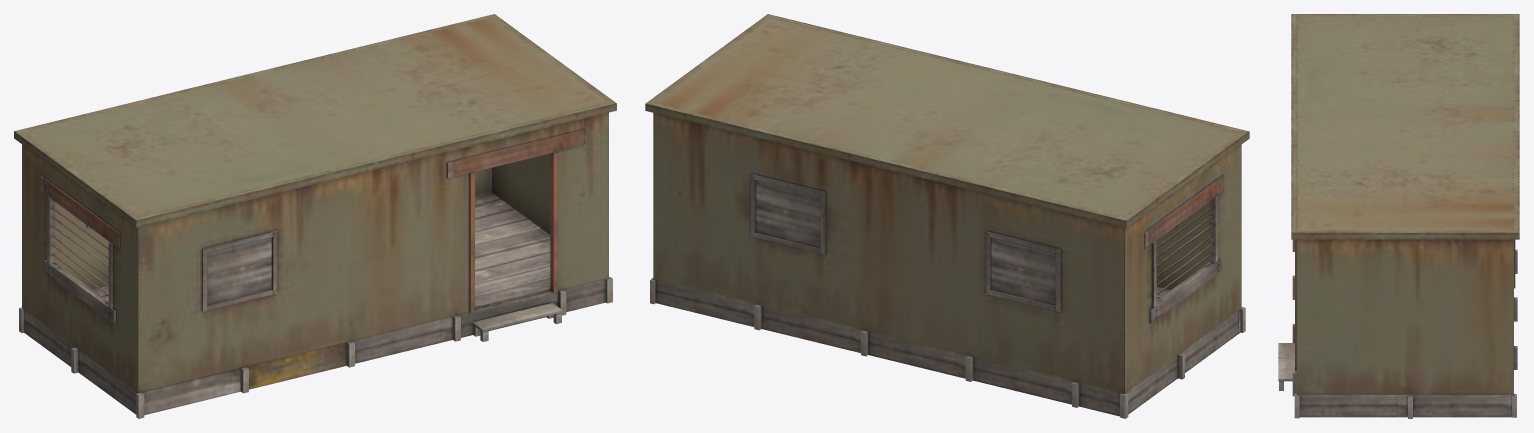
Rendered from container_building.glb.
3 views of the same model, side by side, from view 1: azimuth 30°, elevation 25°; view 2: azimuth 150°, elevation 25°; view 3: azimuth 270°, elevation 25° (orthographic). The views are drawn at different scales.
Parts seen in each view (by area): view 1: Building; view 2: Building; view 3: Building.
Part boxes in pixels (left/top/right/bottom): Building: left=14, top=14, right=616, bottom=418; Building: left=645, top=14, right=1249, bottom=418; Building: left=1278, top=14, right=1519, bottom=418.
Size of the model in its own units: 14.3 by 5.68 by 6.66.
1 material, 1 textured.
